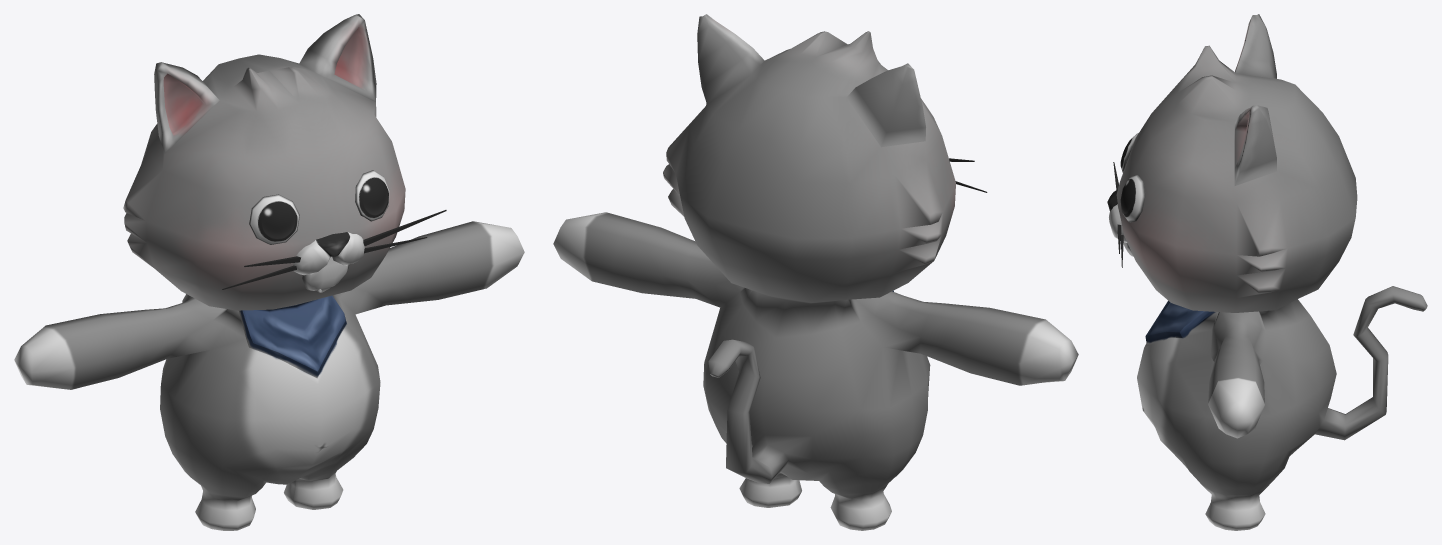
The model's file is cat_character.fbx.
3 views of the same model, side by side, from view 1: azimuth 30°, elevation 25°; view 2: azimuth 150°, elevation 25°; view 3: azimuth 270°, elevation 25° (orthographic). The views are drawn at different scales.
Parts seen in each view (by area): view 1: pCube8, pSphere3, pCube7, pSphere2, pCube14, pCube9; view 2: pCube8; view 3: pCube8, pSphere2, pCube7.
Part boxes in pixels (x1=…): pCube8: x1=14, y1=14, x2=524, y2=530; pSphere3: x1=249, y1=194, x2=299, y2=244; pCube7: x1=293, y1=232, x2=364, y2=275; pSphere2: x1=355, y1=170, x2=389, y2=221; pCube14: x1=222, y1=210, x2=446, y2=289; pCube9: x1=302, y1=256, x2=349, y2=292; pCube8: x1=553, y1=14, x2=1078, y2=530; pCube8: x1=1116, y1=14, x2=1427, y2=530; pSphere2: x1=1120, y1=175, x2=1145, y2=222; pCube7: x1=1107, y1=189, x2=1127, y2=242.
Bounding box in the file's own units: 22.68 × 20.07 × 13.23.
1 material, 1 textured.
